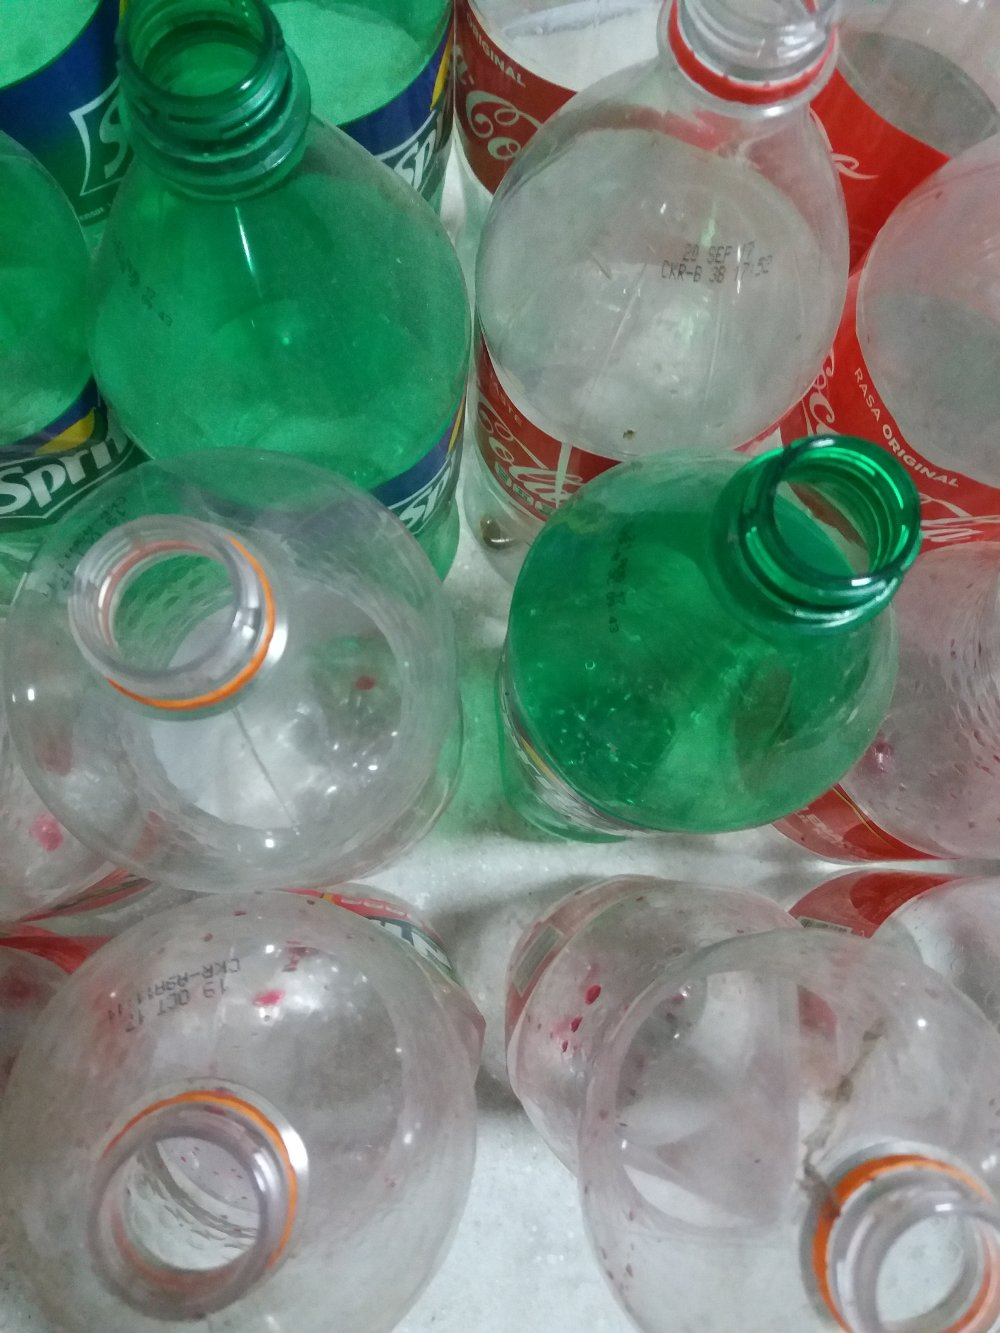botol: (21, 1, 459, 551), (83, 1, 459, 551)
